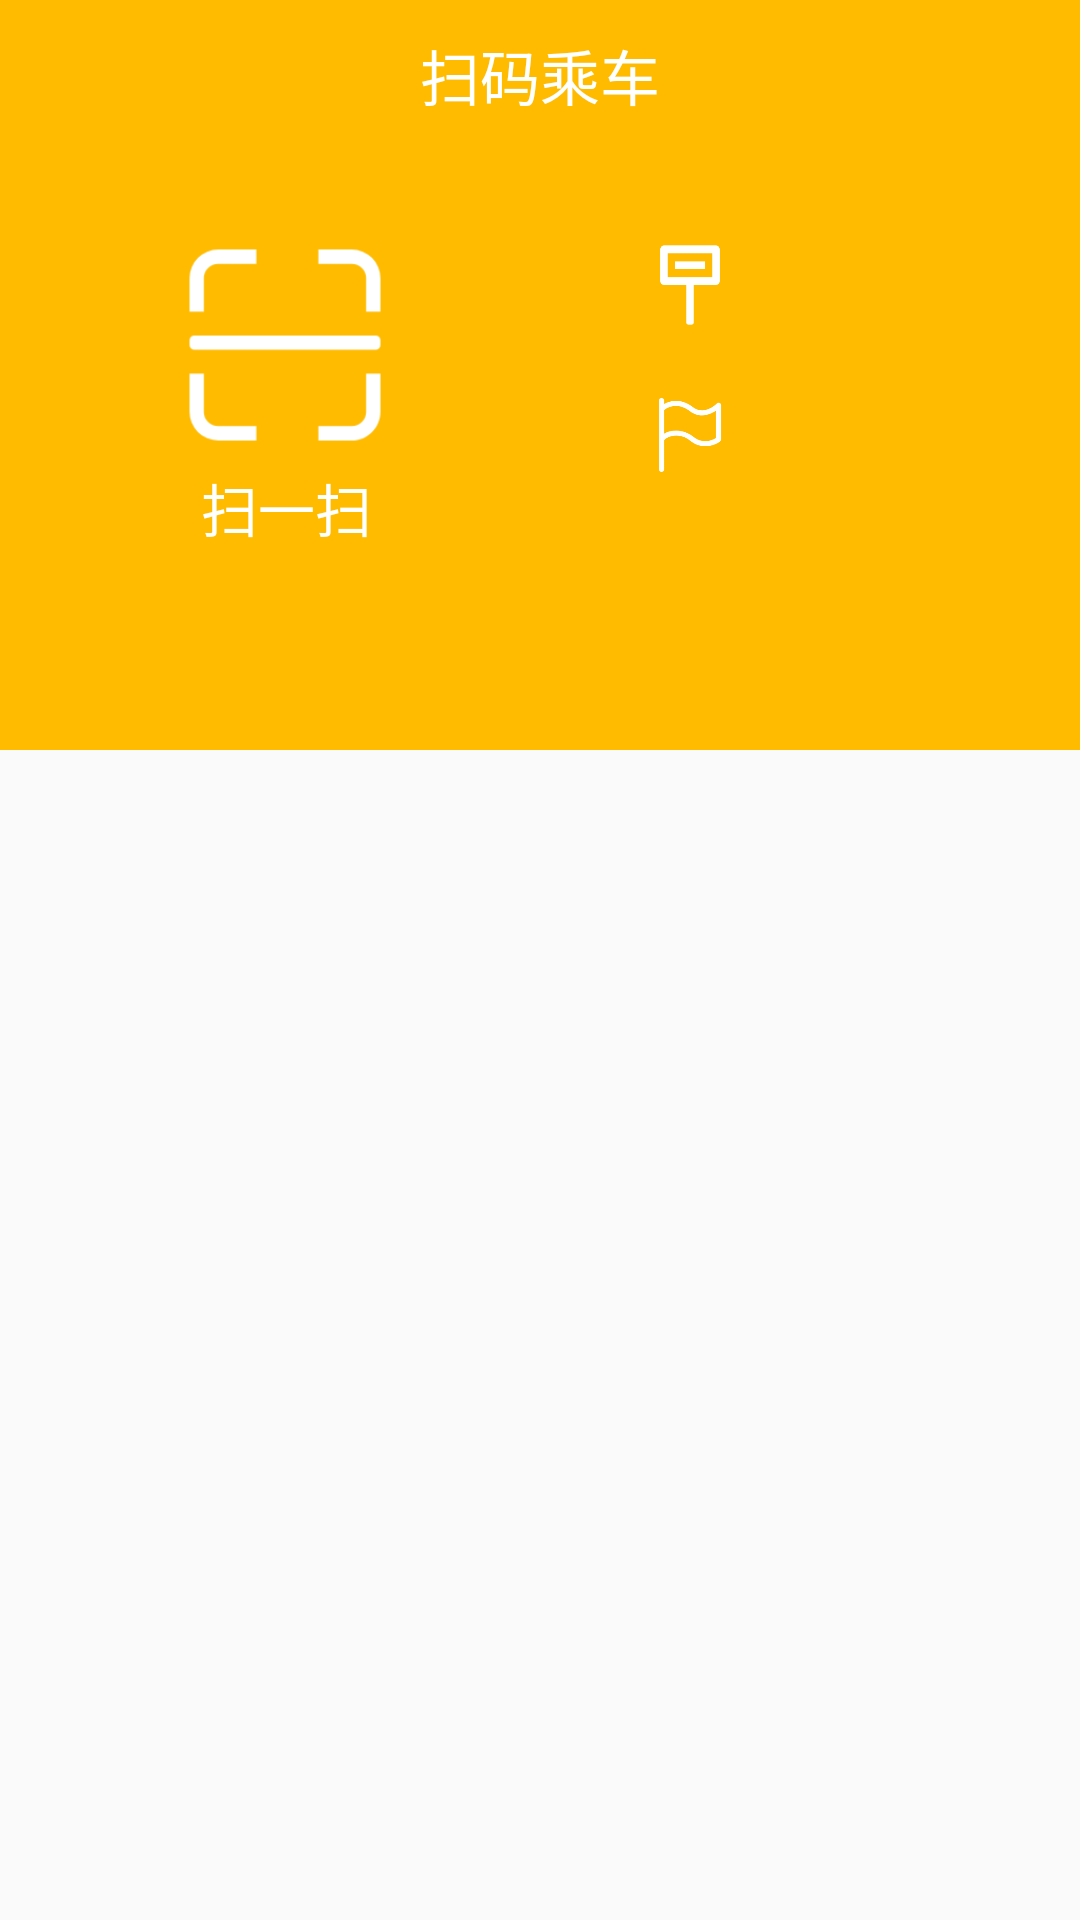

Icon bounding boxes for this 1080 × 1920 phone screenshot, format (x1, y1, x2, y2):
currentsite: (660, 245, 720, 325)
purposesite: (659, 398, 721, 472)
